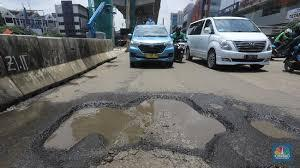Pothole: (40, 93, 227, 168), (238, 97, 300, 148)
